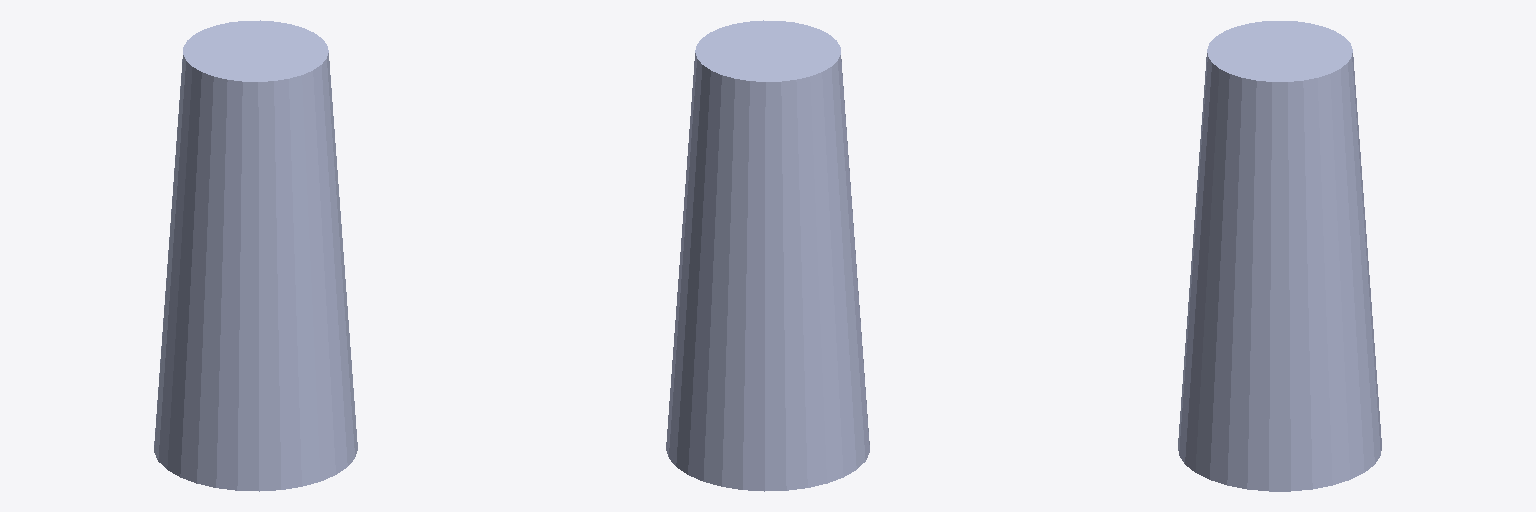
The robot description file, URDF, robot "container":
<robot
  name="container">
  <link
    name="container">
    <inertial>
      <origin
        xyz="3.8923E-18 -0.079562 4.8716065361408E-18"
        rpy="0 0 0" />
      <mass
        value="0.079751" />
      <inertia
        ixx="0.000205229905497511"
        ixy="1.72369015963729E-36"
        ixz="-1.04433595381247E-20"
        iyy="1.25662923133309E-20"
        iyz="-6.25809551322149E-05"
        izz="3.83185176415917E-21" />
    </inertial>
    <visual>
      <origin
        xyz="1.5707963267949 0 0"
        rpy="0 0 0" />
      <geometry>
        <mesh
          filename="package://container/meshes/container.STL" />
      </geometry>
      <material
        name="">
        <color
          rgba="0.79216 0.81961 0.93333 1" />
      </material>
    </visual>
    <collision>
      <origin
        xyz="0 0 0"
        rpy="1.5707963267949 0 0" />
      <geometry>
        <mesh
          filename="package://container/meshes/container.STL" />
      </geometry>
    </collision>
  </link>
</robot>

--- Render facts (derived) ---
3 views of the same robot in one strip: view 1: azimuth 30°, elevation 25°; view 2: azimuth 150°, elevation 25°; view 3: azimuth 270°, elevation 25° (orthographic).
Model container with 1 links and 0 joints (none), rooted at container, posed every joint at zero.
Visible links, largest first — view 1: container; view 2: container; view 3: container.
Link boxes in pixels (x1,y1,x2,y2): container: (154,20,357,491); container: (666,20,869,491); container: (1178,21,1381,491).
Bounding box of the posed robot: 0.0698 × 0.0699 × 0.15 m (x, y, z).
Meshes: 1 distinct files referenced, 1 mesh visuals loaded (1 binary STL).